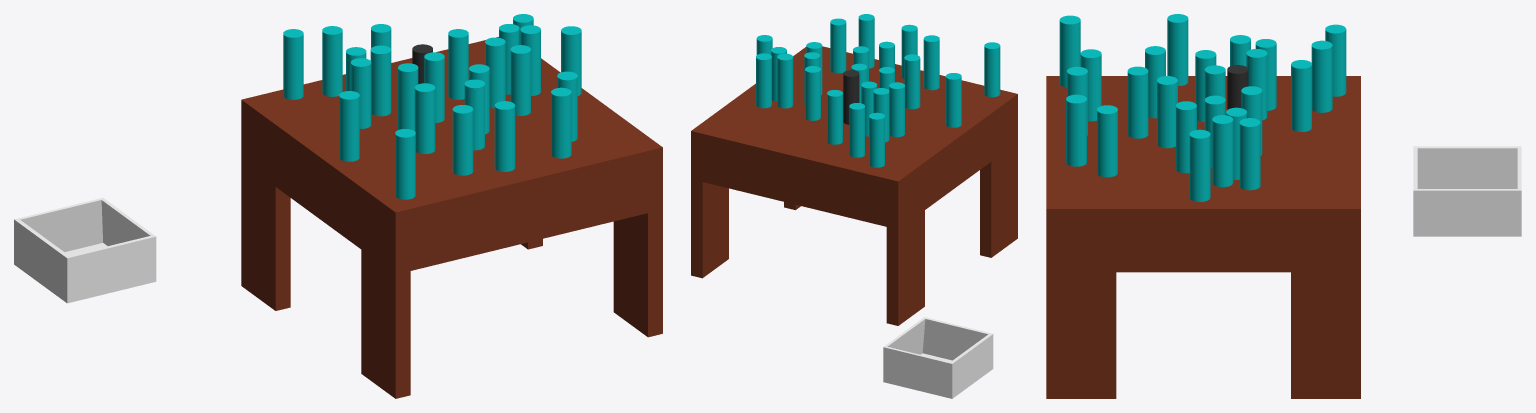
File: can_world_25_cans.dae
3 views of the same model, side by side, from view 1: azimuth 30°, elevation 25°; view 2: azimuth 150°, elevation 25°; view 3: azimuth 270°, elevation 25° (orthographic). The views are drawn at different scales.
Visible parts, largest first — view 1: base (×25), SketchUp (×2); view 2: base (×26), SketchUp (×2); view 3: base (×28), SketchUp (×2).
Part boxes in pixels (x1,y1,x2,y2): base (×25): [241, 24, 662, 398]; SketchUp (×2): [14, 198, 156, 303]; base (×26): [691, 14, 1017, 325]; SketchUp (×2): [883, 317, 993, 398]; base (×28): [1046, 14, 1360, 398]; SketchUp (×2): [1413, 146, 1521, 236].
Bounding box in the file's own units: 1.4 × 1.36 × 0.811.
